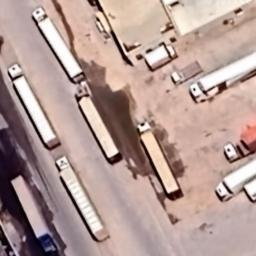truck: (54, 154, 110, 242), (8, 62, 62, 151), (32, 6, 86, 84), (74, 84, 123, 166), (11, 176, 57, 254), (189, 52, 256, 104), (138, 122, 180, 196), (215, 160, 256, 204), (223, 125, 256, 163), (143, 44, 177, 71), (170, 61, 202, 86), (243, 178, 256, 202)
